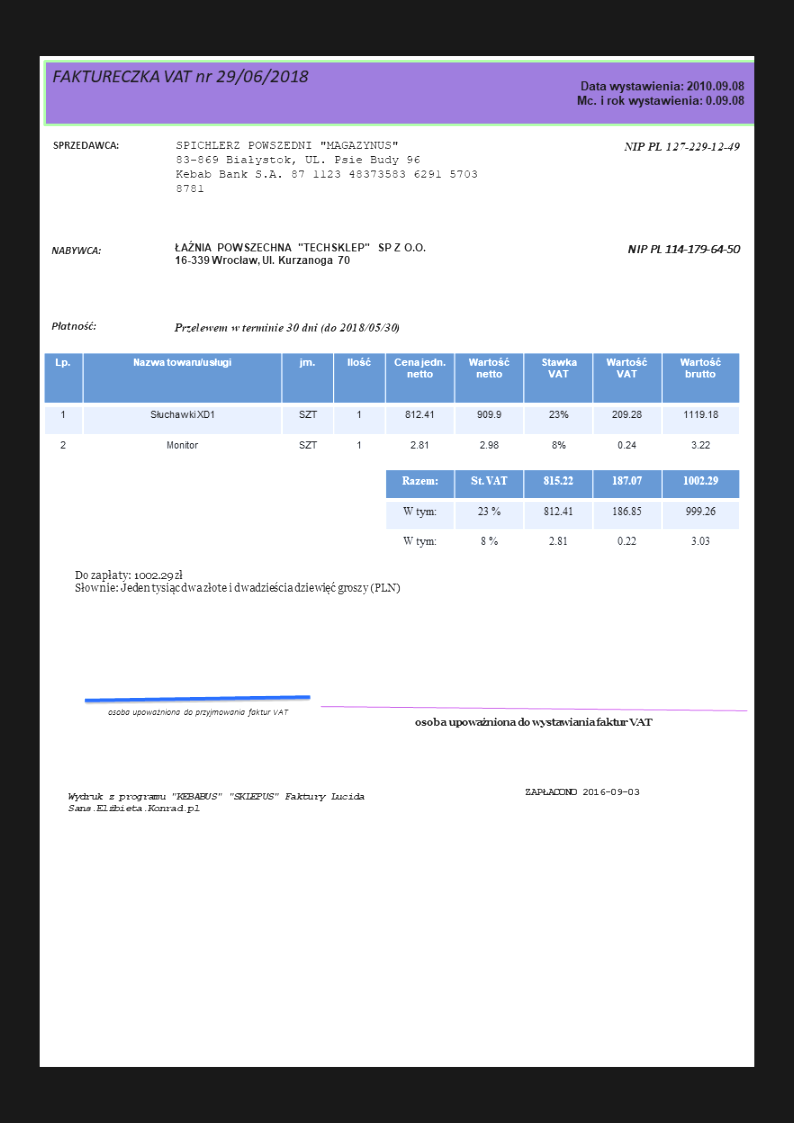Table: (42, 351, 742, 467), (384, 468, 741, 561)
TextBox: (174, 137, 480, 195), (72, 567, 402, 596), (66, 789, 366, 814), (173, 238, 427, 267), (51, 66, 311, 87), (574, 78, 746, 108), (171, 320, 402, 337), (413, 713, 654, 729), (105, 706, 290, 719), (622, 139, 742, 154), (626, 242, 744, 256), (523, 785, 641, 799), (51, 138, 122, 152), (48, 243, 105, 257), (50, 318, 98, 332)
